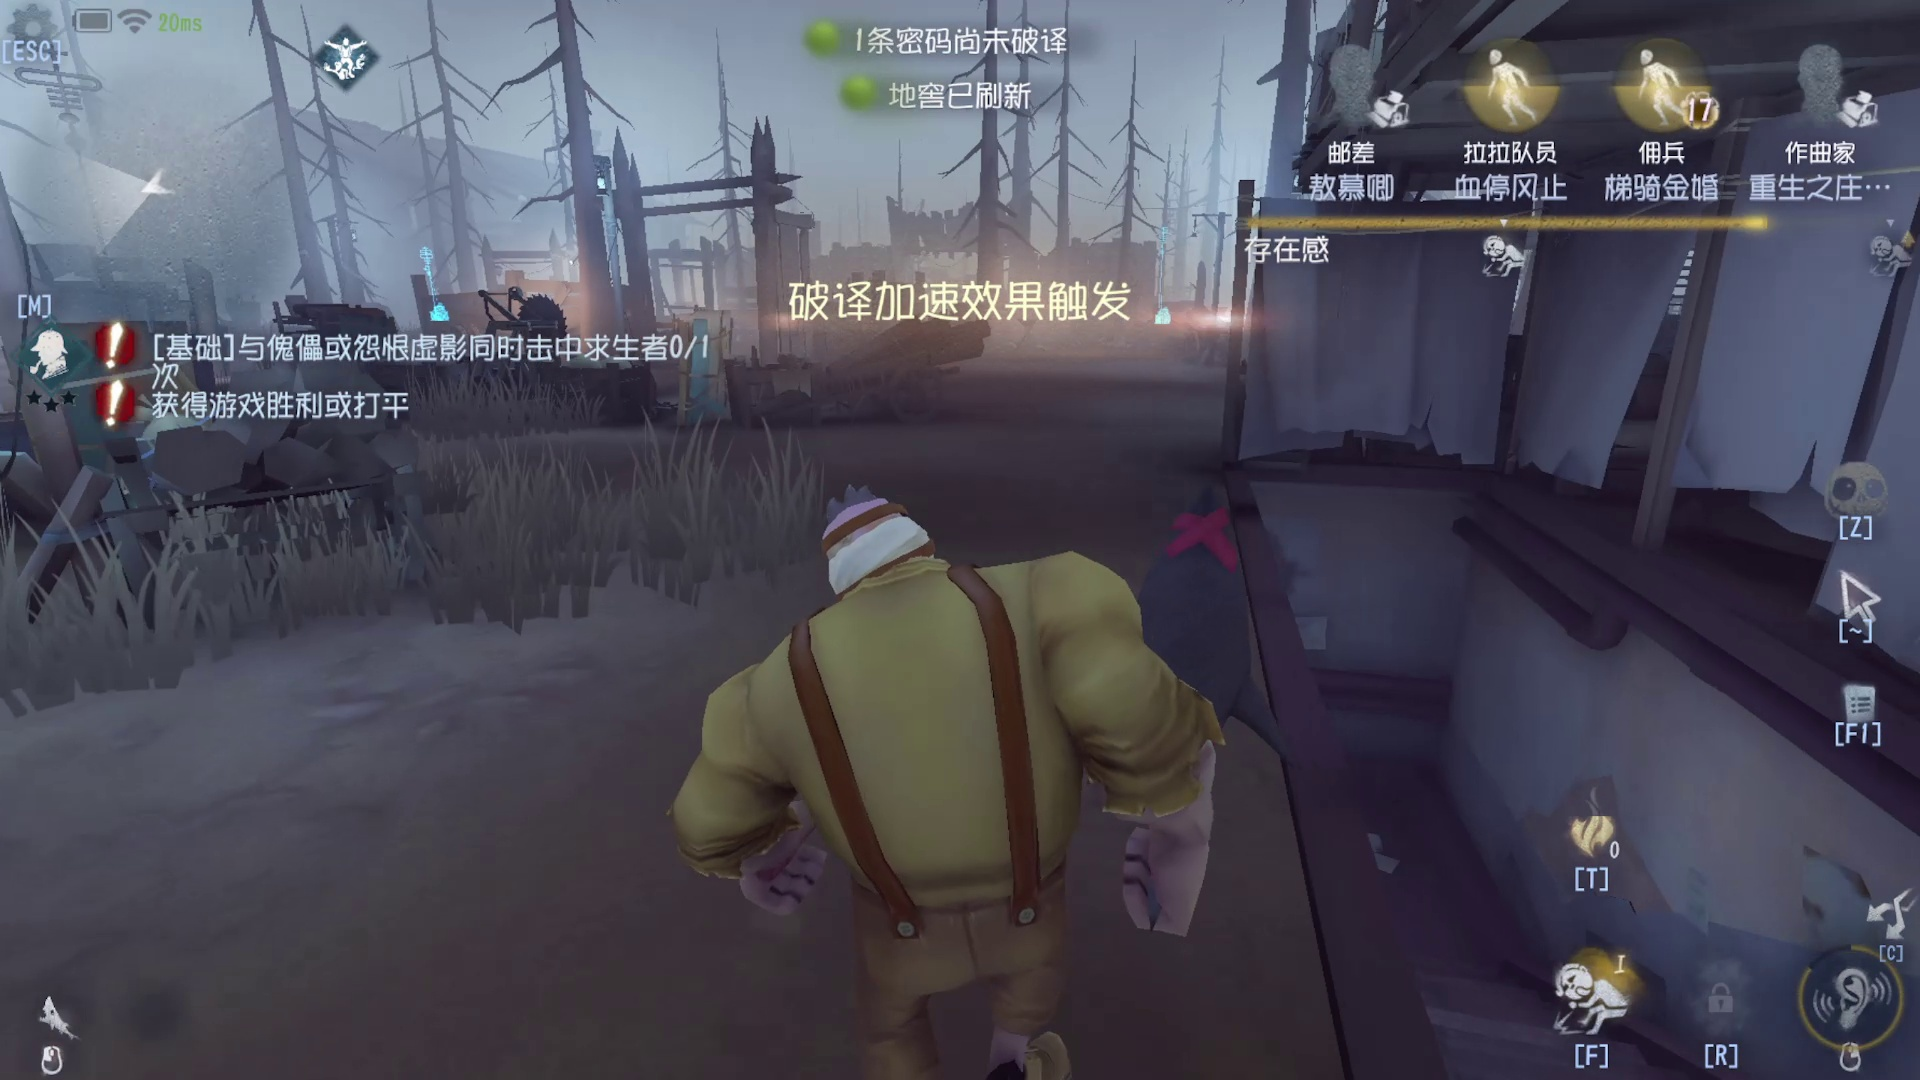密码机: (1124, 207, 1195, 345), (402, 224, 473, 352)
木板: (640, 297, 771, 431)
